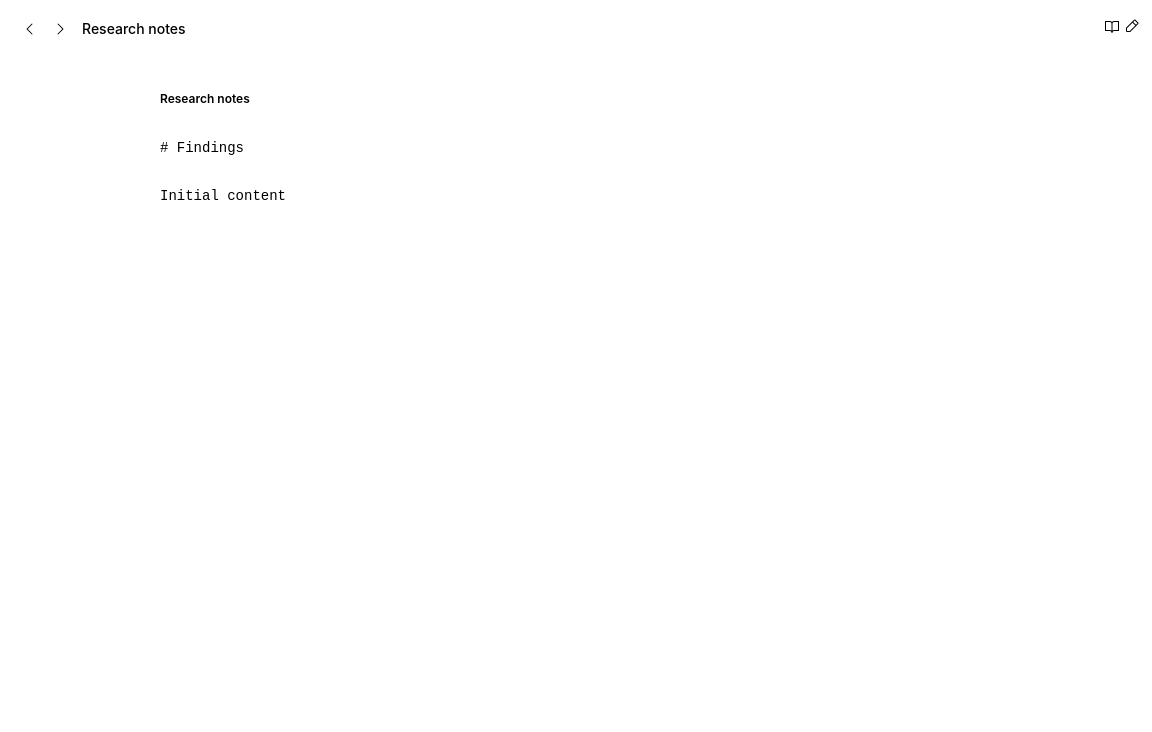
WorkspaceMarkdownView › saves a changed draft before returning to reading mode
The image size is (1152, 732).
Replace the text in the text box named "workspace.noteContentLabel" with "Updated content" at (576, 338), box [148,128,1004,548]
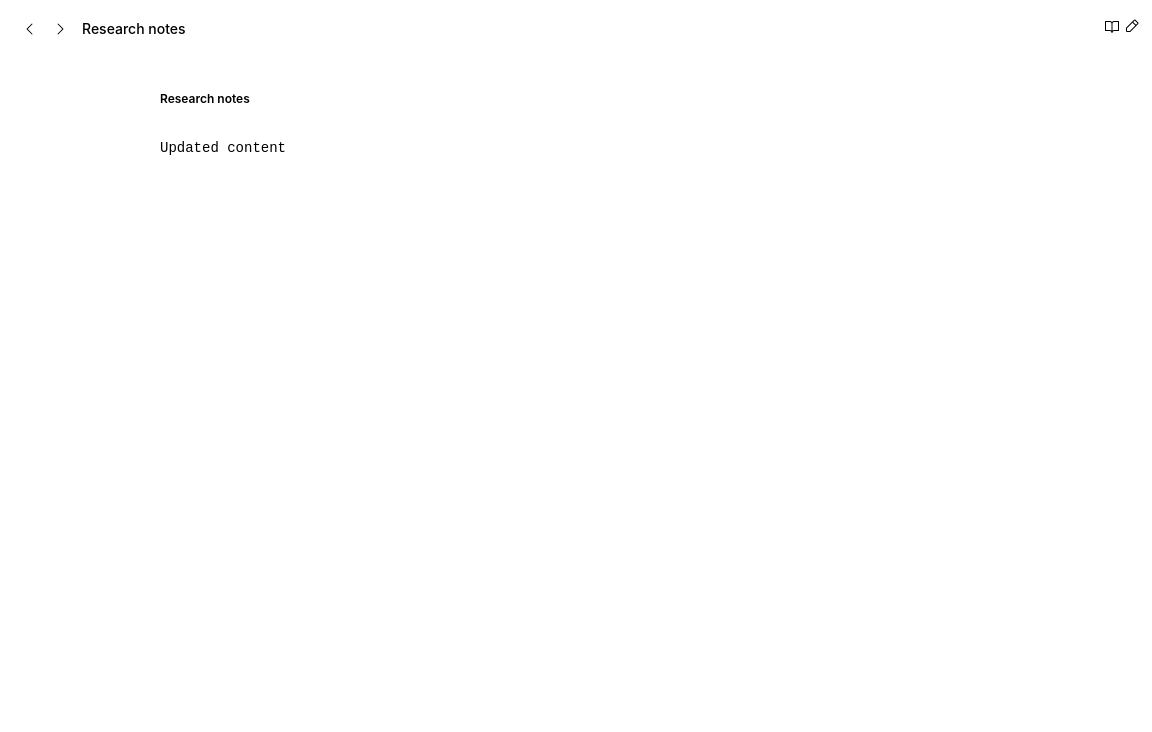
Click the button named "workspace.markdownRead".
click(1112, 26)  # box [1104,18,1120,34]
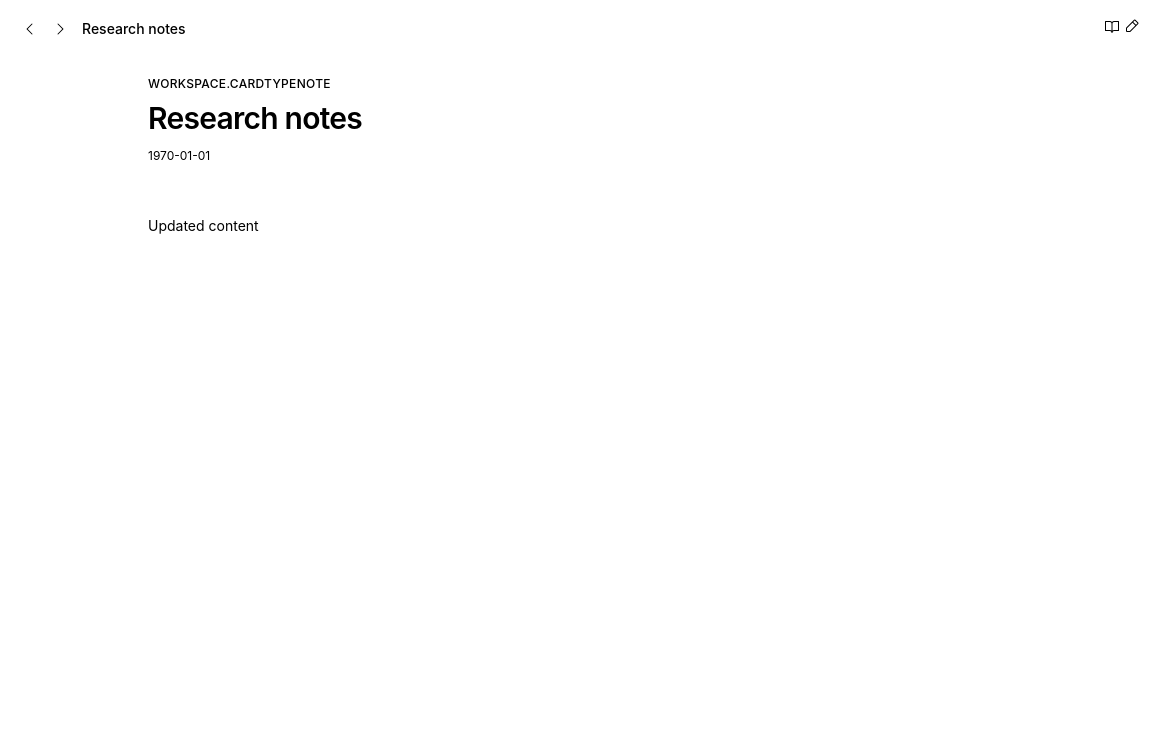
Check: the text "Updated content" is shown, box [148,217,259,234]
